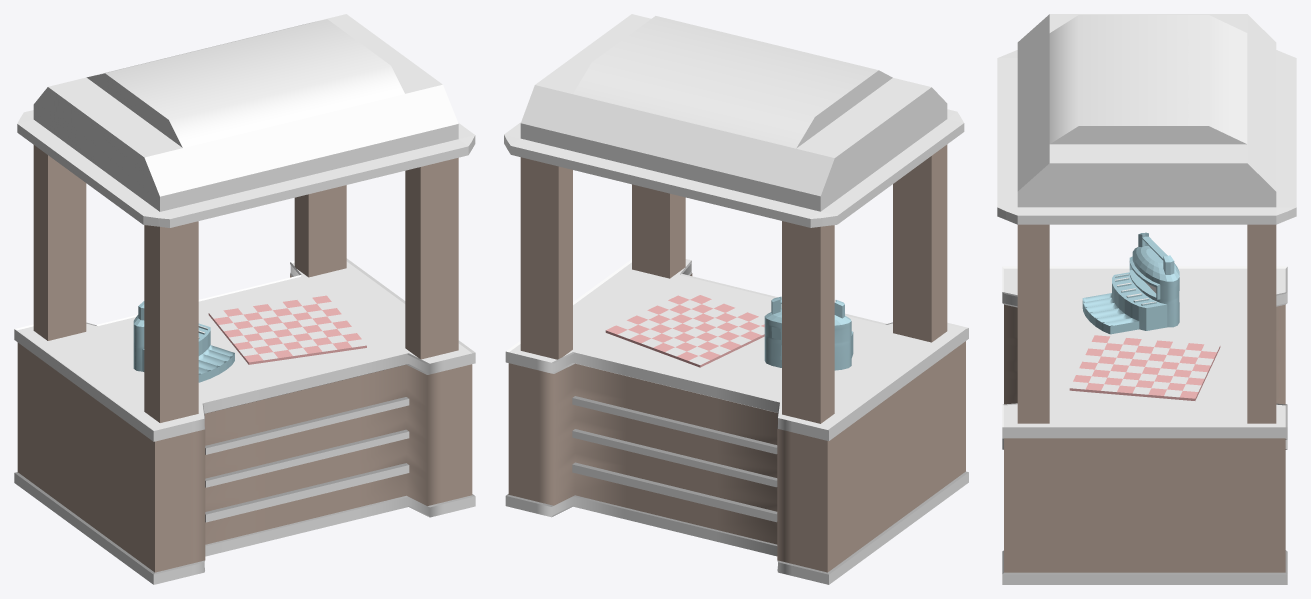
File: FlowerStand_Model.fbx
3 renders of one model, left to right at view 1: azimuth 30°, elevation 25°; view 2: azimuth 150°, elevation 25°; view 3: azimuth 270°, elevation 25°, orthographic. The views are drawn at different scales.
Parts seen in each view (by area): view 1: flowerStand, mat, cashRegister; view 2: flowerStand, mat, cashRegister; view 3: flowerStand, mat, cashRegister.
Boxes of the visible parts, x1,y1,x2,y2 form: flowerStand: (14,14,475,584); mat: (208,295,366,364); cashRegister: (133,301,234,382); flowerStand: (504,14,968,584); mat: (605,290,764,367); cashRegister: (764,296,853,370); flowerStand: (997,14,1296,584); mat: (1069,335,1220,400); cashRegister: (1082,232,1179,334).
Size of the model in its own units: 7.2 by 8.81 by 5.49.
